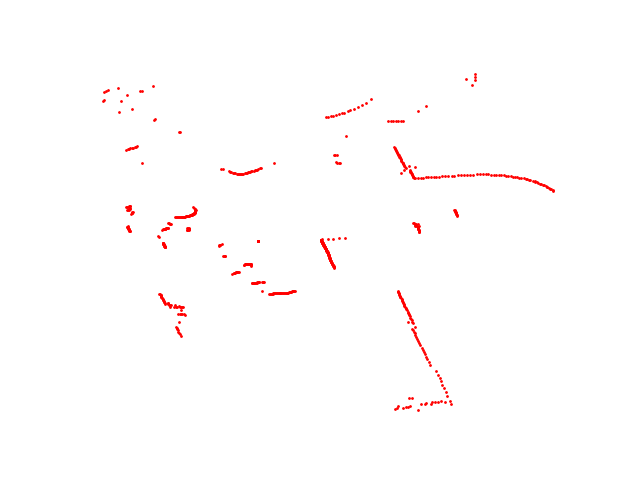person: (228, 260, 254, 277)
